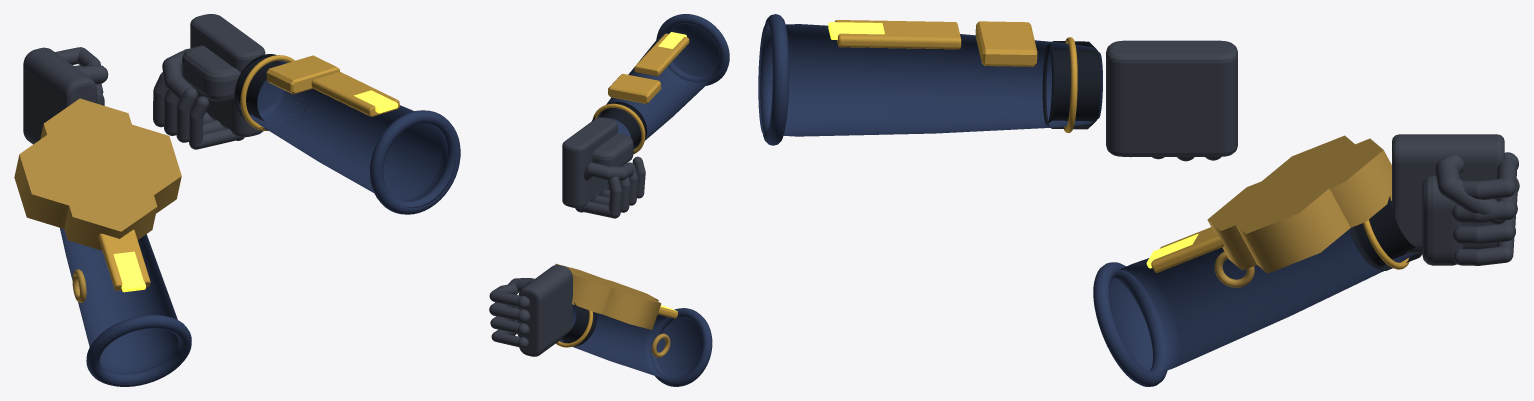
Rendered from hands_forge_tool.glb.
The picture shows the model from 3 angles, left to right: view 1: azimuth 30°, elevation 25°; view 2: azimuth 150°, elevation 25°; view 3: azimuth 270°, elevation 25°; orthographic projection. The views are drawn at different scales.
Parts seen in each view (by area): view 1: hand_l_bolts, hand_r_forearm, hand_l_forearm, hand_l_palm, hand_r_sleeve_roll, hand_r_palm, hand_l_sleeve_roll, hand_r_heel, hand_r_cuff_plate, hand_r_forearm_plate, hand_l_forearm_plate, hand_r_cuff (+11 smaller); view 2: hand_l_forearm, hand_r_forearm, hand_l_palm, hand_l_bolts, hand_r_palm, hand_l_sleeve_roll, hand_r_sleeve_roll, hand_r_cuff_plate, hand_r_forearm_plate, hand_r_heel, hand_r_cuff, hand_r_finger3 (+14 smaller); view 3: hand_r_forearm, hand_l_forearm, hand_l_bolts, hand_r_palm, hand_l_palm, hand_l_sleeve_roll, hand_r_cuff, hand_r_sleeve_roll, hand_r_forearm_plate, hand_l_heel, hand_r_cuff_plate, hand_l_cuff (+8 smaller).
Boxes of the visible parts, x1,y1,x2,y2 form: hand_l_bolts: (14, 98, 181, 250); hand_r_forearm: (237, 57, 456, 207); hand_l_forearm: (60, 228, 184, 384); hand_l_palm: (23, 47, 96, 144); hand_r_sleeve_roll: (370, 110, 460, 214); hand_r_palm: (190, 14, 265, 137); hand_l_sleeve_roll: (86, 315, 191, 386); hand_r_heel: (182, 45, 240, 101); hand_r_cuff_plate: (266, 55, 339, 94); hand_r_forearm_plate: (311, 72, 399, 116); hand_l_forearm_plate: (98, 229, 150, 290); hand_r_cuff: (234, 54, 309, 130); hand_l_forearm: (559, 304, 702, 379); hand_r_forearm: (597, 24, 719, 149); hand_l_palm: (518, 265, 572, 356); hand_l_bolts: (555, 264, 661, 329); hand_r_palm: (562, 117, 617, 208); hand_l_sleeve_roll: (650, 308, 712, 386); hand_r_sleeve_roll: (656, 14, 729, 85); hand_r_cuff_plate: (608, 73, 661, 103); hand_r_forearm_plate: (634, 33, 689, 76); hand_r_heel: (592, 133, 633, 166); hand_r_cuff: (592, 101, 647, 152); hand_r_finger3: (581, 176, 622, 218); hand_r_forearm: (758, 24, 1102, 136); hand_l_forearm: (1109, 200, 1415, 373); hand_l_bolts: (1207, 135, 1391, 273); hand_r_palm: (1106, 40, 1237, 156); hand_l_palm: (1392, 134, 1504, 253); hand_l_sleeve_roll: (1093, 262, 1167, 386); hand_r_cuff: (1042, 41, 1100, 129); hand_r_sleeve_roll: (760, 14, 789, 145); hand_r_forearm_plate: (835, 20, 961, 49); hand_l_heel: (1422, 176, 1463, 265); hand_r_cuff_plate: (975, 21, 1037, 66); hand_l_cuff: (1349, 196, 1421, 270).
Size of the model in its own units: 0.2264 by 0.3488 by 0.5539.
